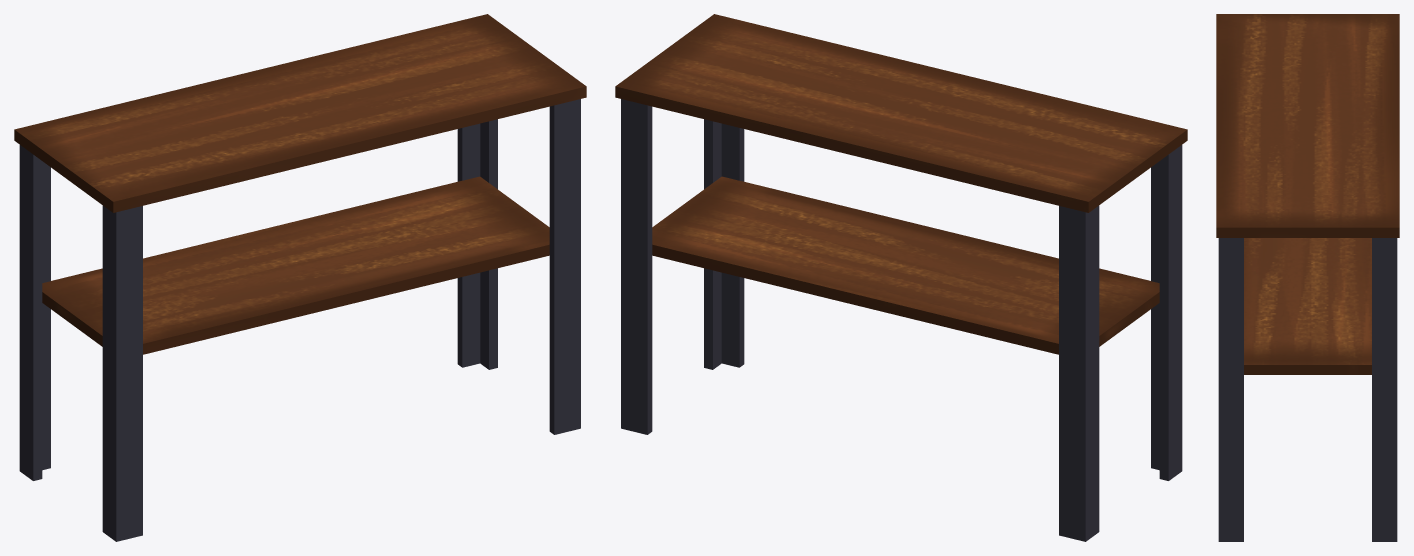
File: IronChest_M.FBX
3 views of the same model, side by side, from view 1: azimuth 30°, elevation 25°; view 2: azimuth 150°, elevation 25°; view 3: azimuth 270°, elevation 25° (orthographic). The views are drawn at different scales.
Parts seen in each view (by area): view 1: IronChest_M; view 2: IronChest_M; view 3: IronChest_M.
Part boxes in pixels (left/top/right/bottom): IronChest_M: left=14, top=14, right=586, bottom=541; IronChest_M: left=615, top=14, right=1187, bottom=541; IronChest_M: left=1216, top=14, right=1399, bottom=541.
Size of the model in its own units: 151 by 104 by 54.57.
Materials: 1 (1 with a texture image).
